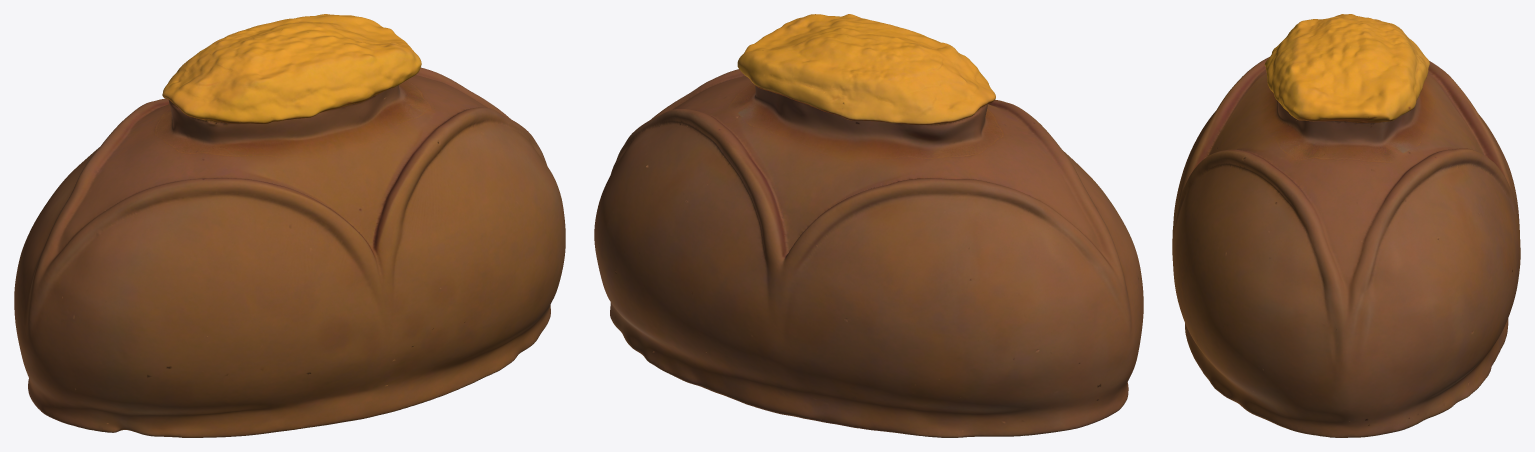
File: praline-amande-chocolate.glb
3 views of the same model, side by side, from view 1: azimuth 30°, elevation 25°; view 2: azimuth 150°, elevation 25°; view 3: azimuth 270°, elevation 25° (orthographic). The views are drawn at different scales.
Size of the model in its own units: 2 by 1.15 by 1.25.
1 material, 1 textured.
